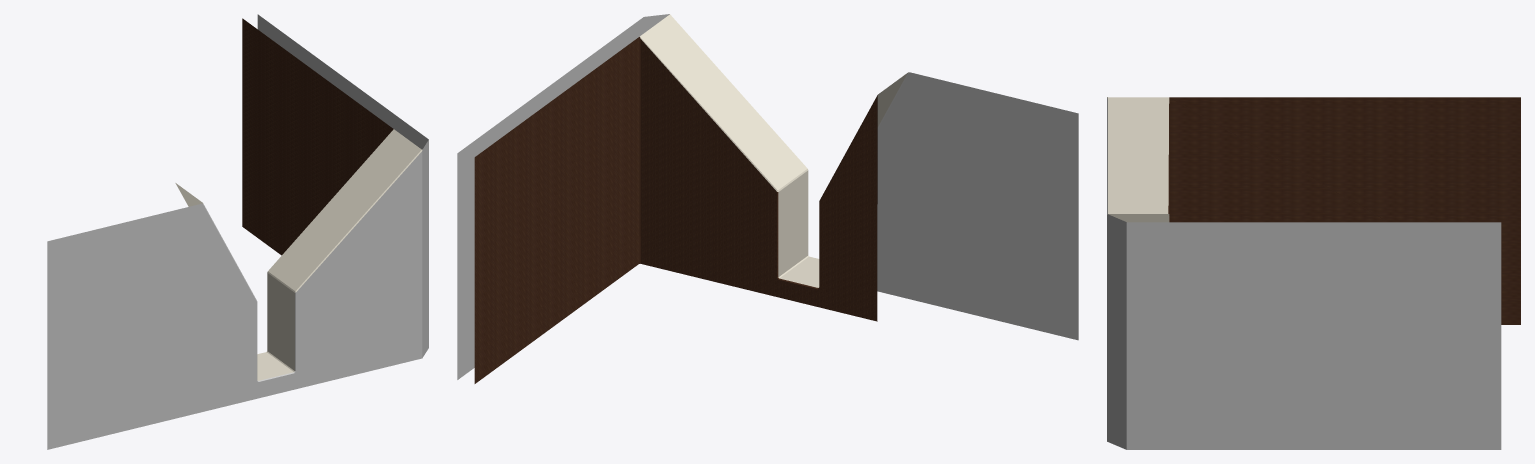
File: ConveyorWall.fbx
3 renders of one model, left to right at view 1: azimuth 30°, elevation 25°; view 2: azimuth 150°, elevation 25°; view 3: azimuth 270°, elevation 25°, orthographic. The views are drawn at different scales.
Parts seen in each view (by area): view 1: ConveyorWall; view 2: ConveyorWall; view 3: ConveyorWall.
Part boxes in pixels (box(x1,y1,x2,y2)): ConveyorWall: box(47, 14, 428, 449); ConveyorWall: box(457, 14, 1078, 383); ConveyorWall: box(1107, 97, 1520, 449).
Bounding box in the file's own units: 50000 × 25511 × 42000.
